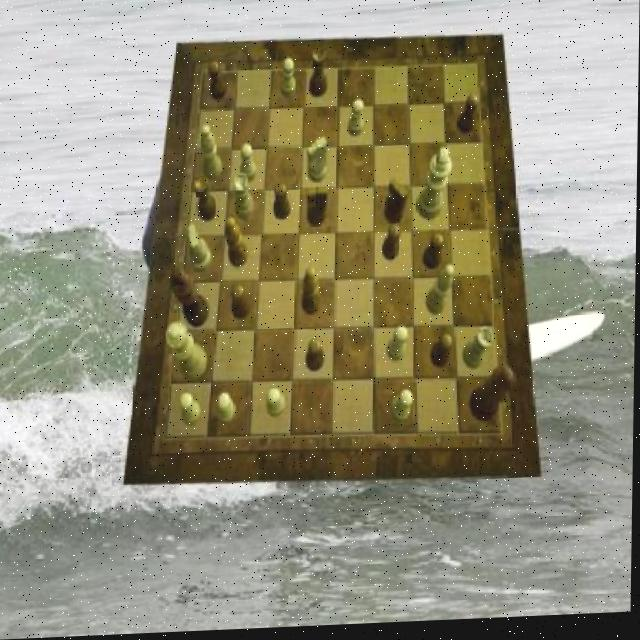bishop: (226, 219, 250, 270), (302, 269, 323, 318)
black-bishop: (171, 270, 210, 331)
black-king: (383, 181, 407, 228), (307, 189, 329, 231)
black-knight: (457, 100, 479, 139), (432, 336, 455, 372), (424, 237, 445, 274), (382, 227, 402, 264), (207, 63, 225, 104), (231, 287, 250, 323), (307, 342, 326, 377), (273, 185, 290, 222)
black-pawn: (469, 370, 517, 427)
black-queen: (194, 175, 218, 222), (309, 52, 327, 101)
black-rook: (425, 269, 453, 321), (199, 126, 223, 183)
white-bishop: (417, 152, 453, 226)
white-king: (187, 226, 213, 276), (307, 141, 327, 188)
white-knight: (390, 393, 414, 428), (180, 394, 203, 429), (387, 330, 408, 366), (239, 146, 257, 185), (347, 102, 365, 141), (217, 394, 237, 427), (280, 61, 296, 101), (267, 392, 286, 420)
white-pawn: (165, 324, 208, 385)
white-queen: (464, 332, 494, 374), (234, 176, 255, 222)
